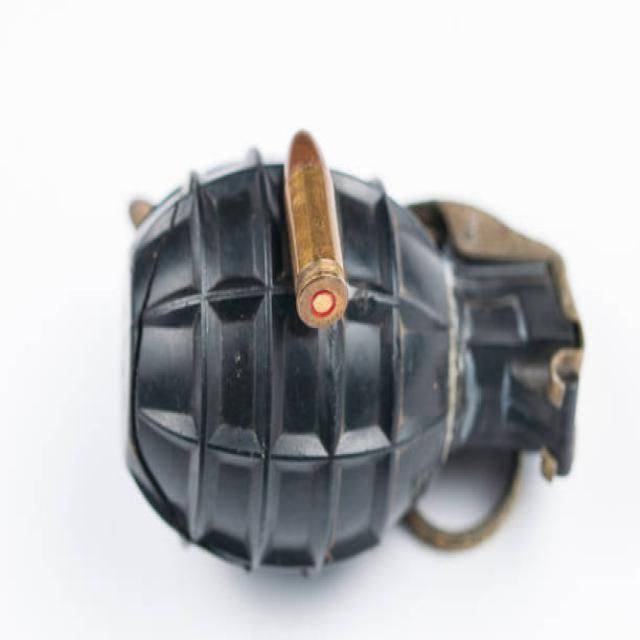grenade: (116, 144, 580, 585)
